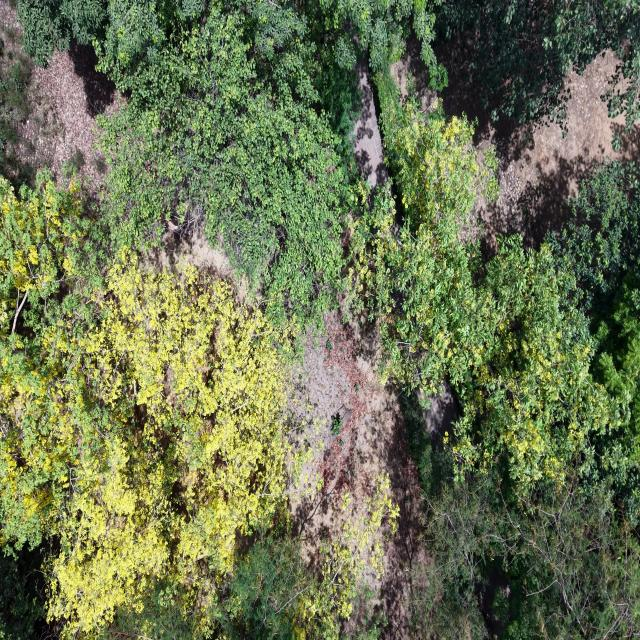DRY_AREA: (391, 38, 639, 248), (391, 39, 639, 249), (287, 310, 432, 639), (285, 311, 429, 639), (289, 312, 430, 639), (289, 312, 429, 639), (290, 314, 431, 638), (291, 313, 430, 638), (292, 315, 431, 637), (290, 315, 428, 639), (293, 315, 431, 637), (290, 315, 424, 639), (438, 50, 639, 252), (439, 51, 639, 243), (476, 51, 639, 245), (480, 51, 639, 244), (13, 42, 124, 202), (15, 42, 123, 200), (19, 42, 124, 198), (16, 43, 121, 194), (21, 43, 117, 189), (139, 222, 247, 303), (139, 225, 247, 303), (0, 3, 34, 188), (141, 227, 231, 278), (353, 57, 387, 186), (353, 58, 387, 186), (353, 59, 386, 186), (390, 35, 436, 111), (416, 379, 458, 438)
VEGETATION_TREE: (0, 0, 639, 639), (0, 176, 390, 638), (352, 76, 639, 639), (18, 0, 357, 323), (0, 262, 285, 637), (354, 78, 607, 489), (98, 4, 351, 323), (219, 0, 639, 126), (407, 420, 639, 639), (351, 75, 496, 388), (449, 237, 608, 490), (553, 163, 639, 525), (215, 486, 393, 639), (435, 0, 639, 127), (219, 0, 441, 77), (294, 0, 445, 88), (15, 0, 106, 64), (0, 27, 32, 186), (0, 549, 46, 638)
